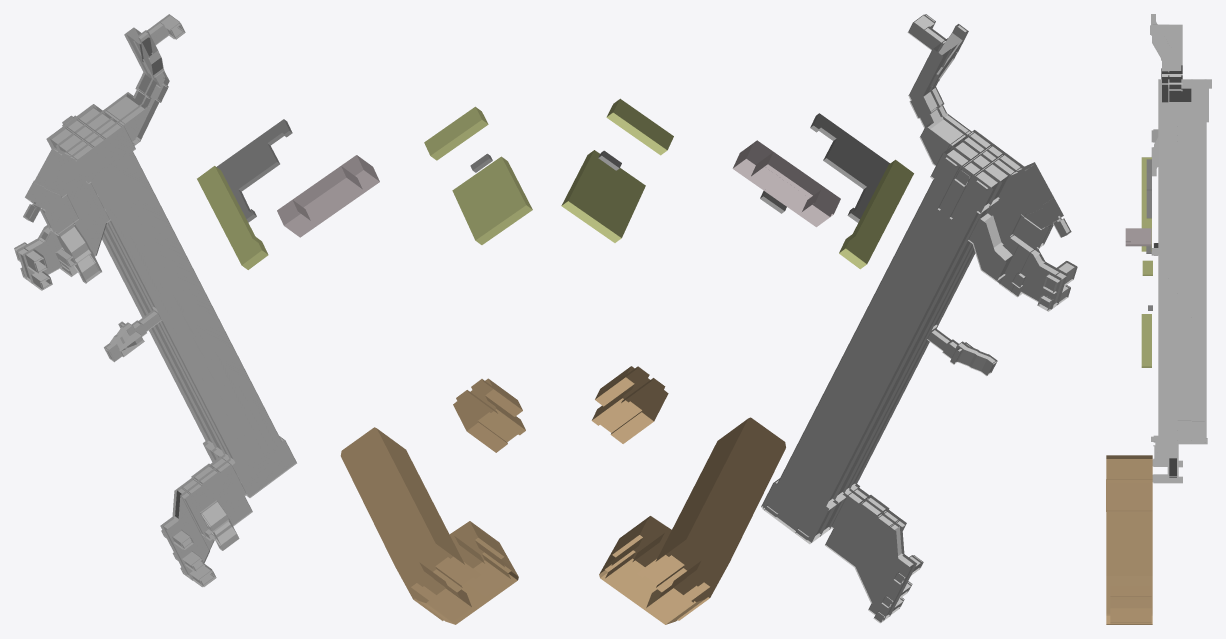
The picture shows the model from 3 angles, left to right: view 1: azimuth 30°, elevation 25°; view 2: azimuth 150°, elevation 25°; view 3: azimuth 270°, elevation 25°; orthographic projection. The views are drawn at different scales.
Parts seen in each view (by area): view 1: 0_1_0_2_2_1; view 2: 0_1_0_2_2_1; view 3: 0_1_0_2_2_1.
Boxes of the visible parts, x1=… form: 0_1_0_2_2_1: x1=14, y1=14, x2=532, y2=624; 0_1_0_2_2_1: x1=561, y1=14, x2=1077, y2=624; 0_1_0_2_2_1: x1=1106, y1=14, x2=1211, y2=624.
Size of the model in its own units: 260 by 323 by 61.48.
